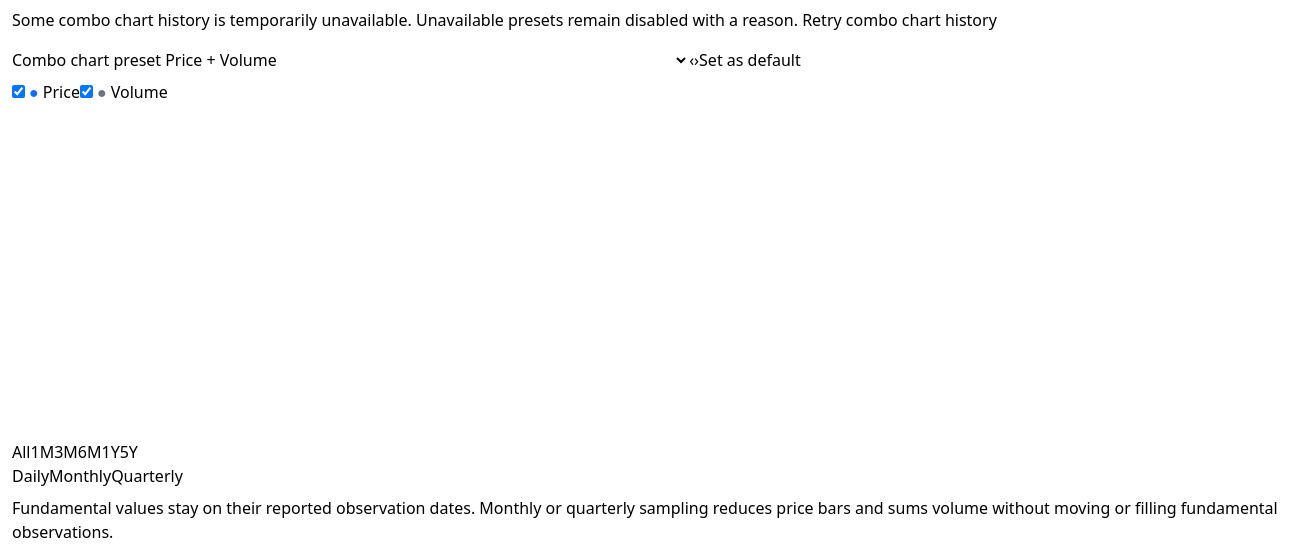
Test case: dashboard and combo chart recovery › recovers unavailable history with GETs and preserves canonical observation points
This screenshot has width=1304, height=555.
Expected: the text "Some combo chart history is temporarily unavailable" is shown, [12,9,798,31]
Expected: the dropdown labelled "Combo chart preset" shows "Price + Volume", [161,48,689,72]
Click the button "Retry combo chart history". click: (899, 20)
box: [802,8,997,32]
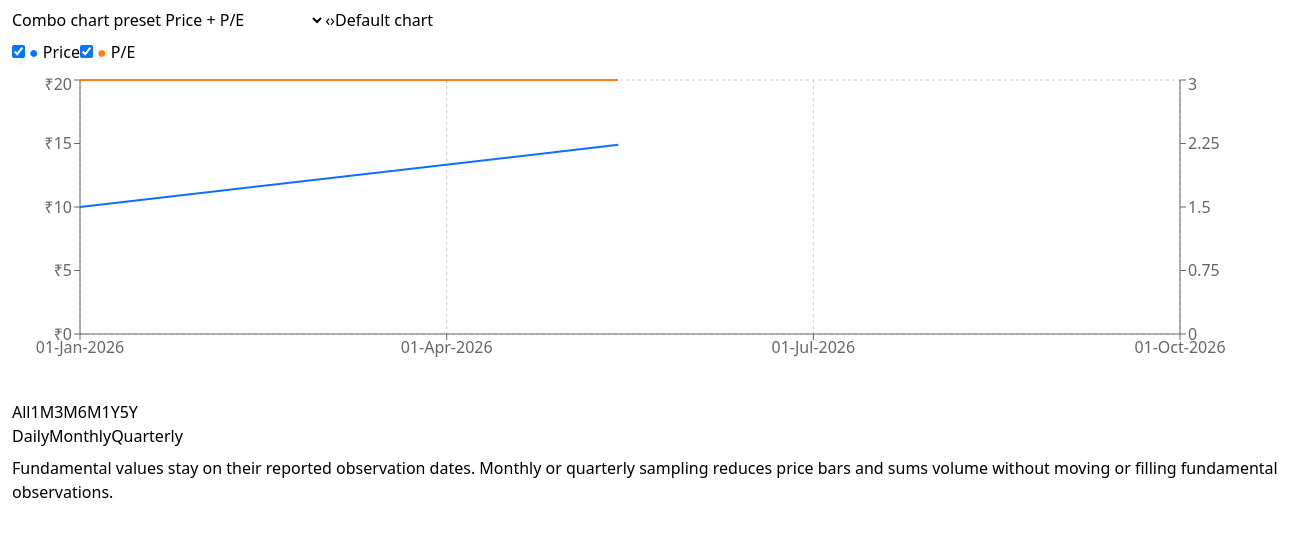
Expected: the dropdown labelled "Combo chart preset" shows "Price + P/E", [161,8,325,32]
